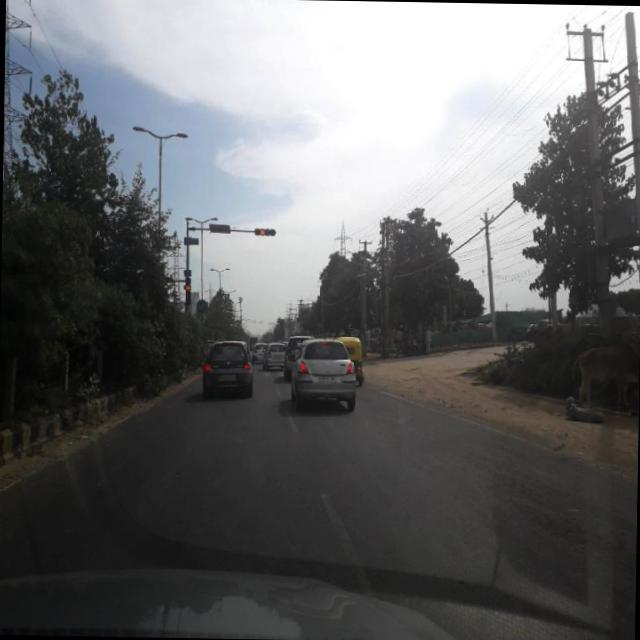crack: (9, 400, 320, 568), (424, 436, 638, 610)
